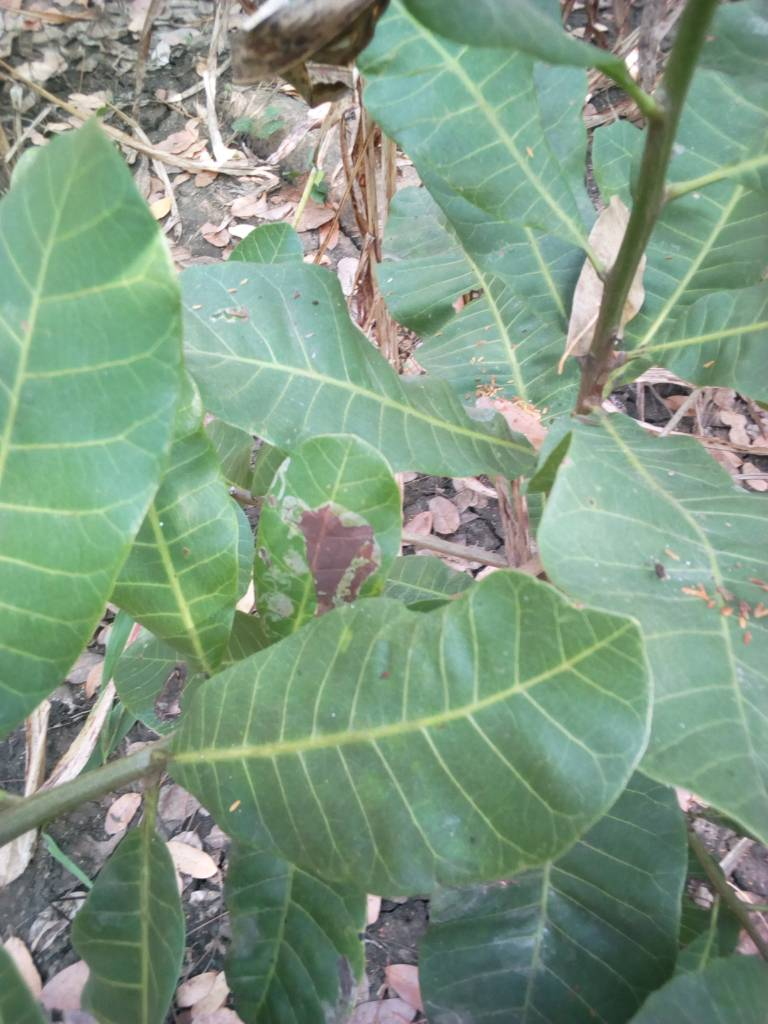Dysdercus wolkerii: (224, 416, 450, 661)
